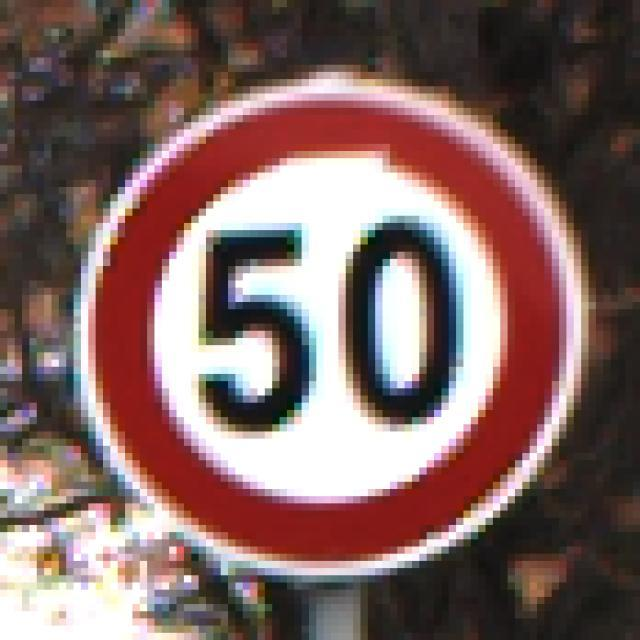speed limit 50: (55, 64, 593, 577)
